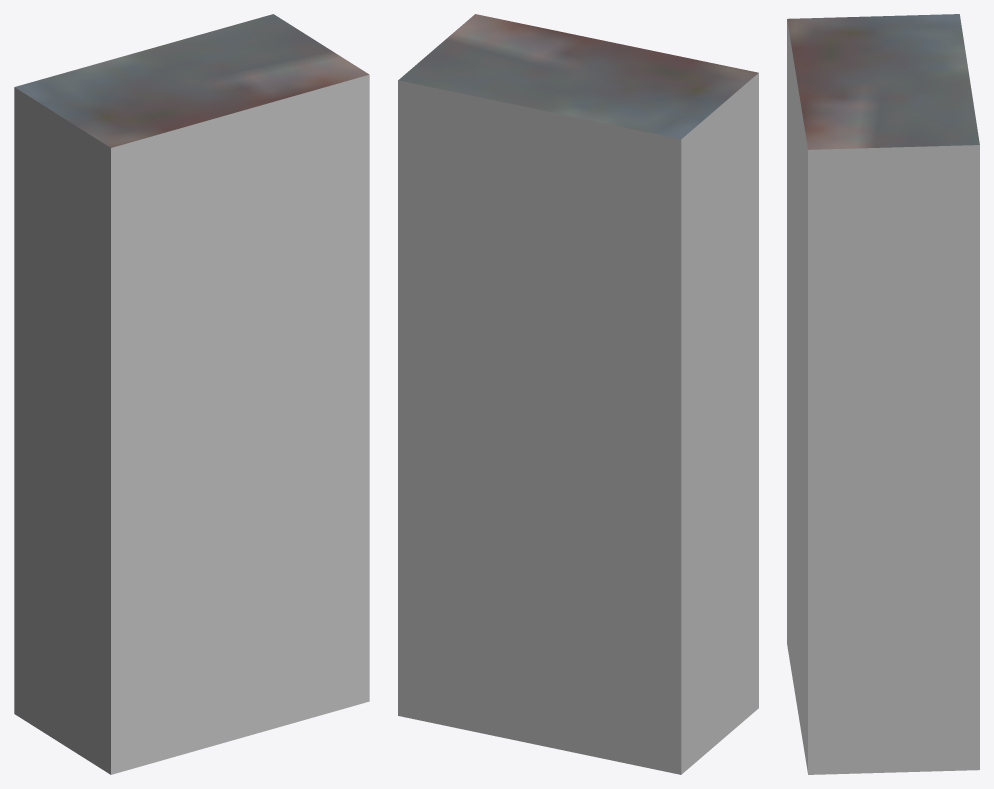
File: DEBW_0010007THYn.gltf
3 views of the same model, side by side, from view 1: azimuth 30°, elevation 25°; view 2: azimuth 150°, elevation 25°; view 3: azimuth 270°, elevation 25° (orthographic).
Visible parts, largest first — view 1: Z_UP; view 2: Z_UP; view 3: Z_UP.
Boxes of the visible parts, x1=… form: Z_UP: x1=14, y1=14, x2=369, y2=774; Z_UP: x1=398, y1=14, x2=758, y2=774; Z_UP: x1=787, y1=14, x2=979, y2=774.
Bounding box in the file's own units: 3.35 × 7.19 × 2.01.
2 materials, 1 textured.
